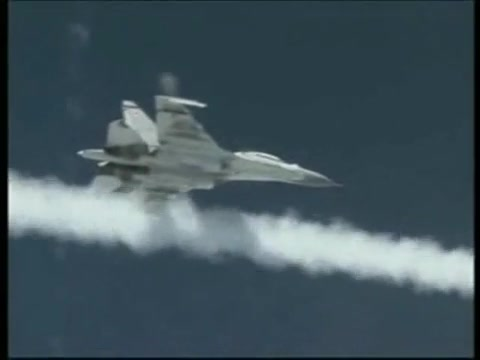aeroplane: (77, 95, 347, 200)
